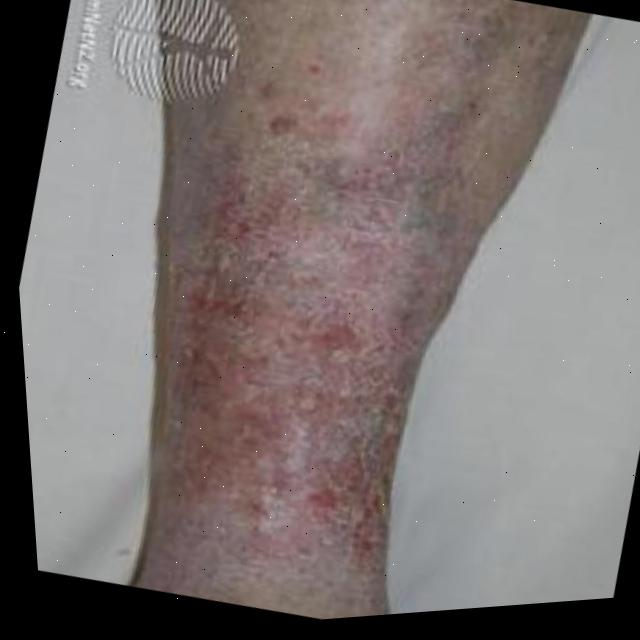Eczema: (98, 33, 550, 590)
